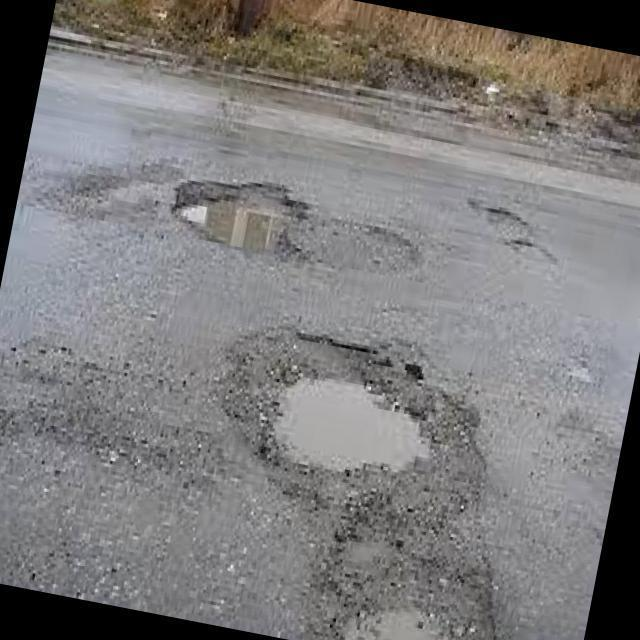-: (273, 378, 426, 479), (171, 184, 292, 249), (334, 588, 454, 640)
